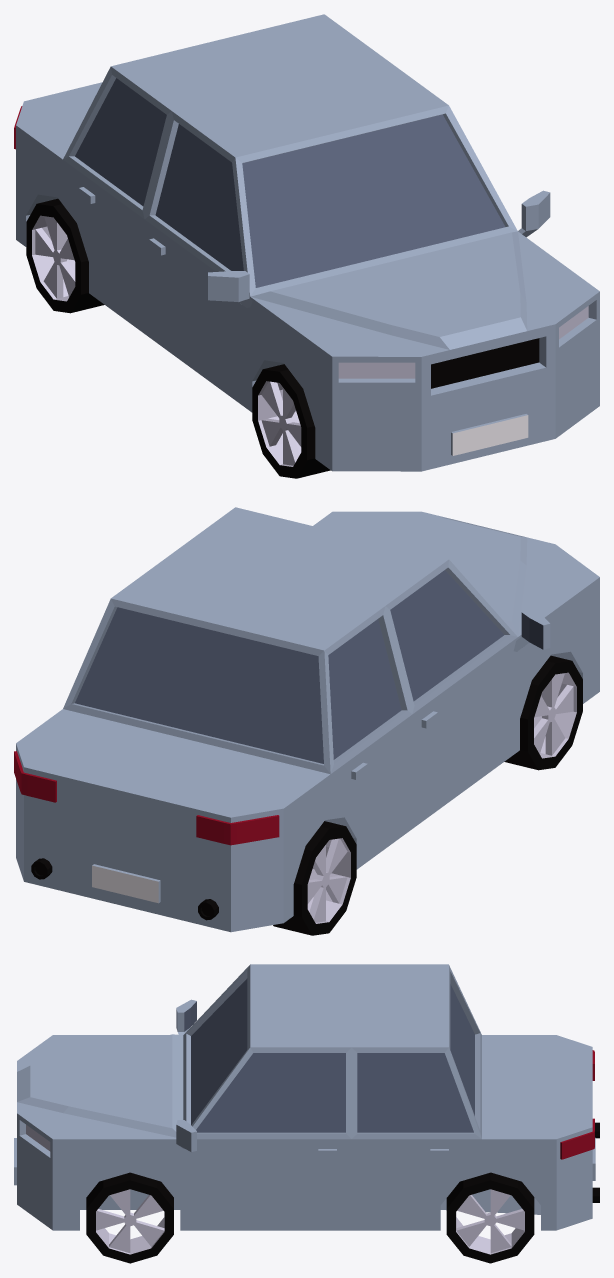
Rendered from graycar.glb.
3 views of the same model, one above another, from view 1: azimuth 30°, elevation 25°; view 2: azimuth 150°, elevation 25°; view 3: azimuth 270°, elevation 25° (orthographic). The views are drawn at different scales.
Parts seen in each view (by area): view 1: Sedan, Sedan wheel front right, Sedan wheel rear right; view 2: Sedan, Sedan wheel rear right, Sedan wheel front right; view 3: Sedan, Sedan wheel rear left, Sedan wheel front left.
Boxes of the visible parts, x1=… form: Sedan: x1=14, y1=14, x2=599, y2=471; Sedan wheel front right: x1=252, y1=364, x2=330, y2=478; Sedan wheel rear right: x1=26, y1=198, x2=104, y2=313; Sedan: x1=14, y1=507, x2=599, y2=932; Sedan wheel rear right: x1=273, y1=821, x2=356, y2=935; Sedan wheel front right: x1=504, y1=655, x2=582, y2=770; Sedan: x1=14, y1=964, x2=599, y2=1230; Sedan wheel rear left: x1=446, y1=1172, x2=534, y2=1263; Sedan wheel front left: x1=86, y1=1172, x2=173, y2=1263.
Bounding box in the file's own units: 2.81 × 2.01 × 5.23.
